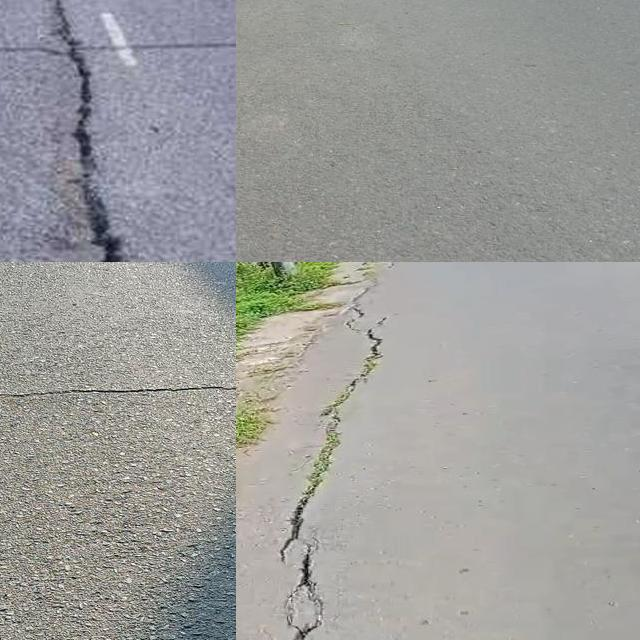Melintang: (0, 371, 236, 409)
Memanjang: (275, 302, 401, 640), (29, 0, 136, 262)
